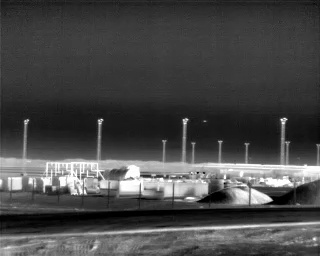AIRPLANE: (202, 118, 208, 124)
